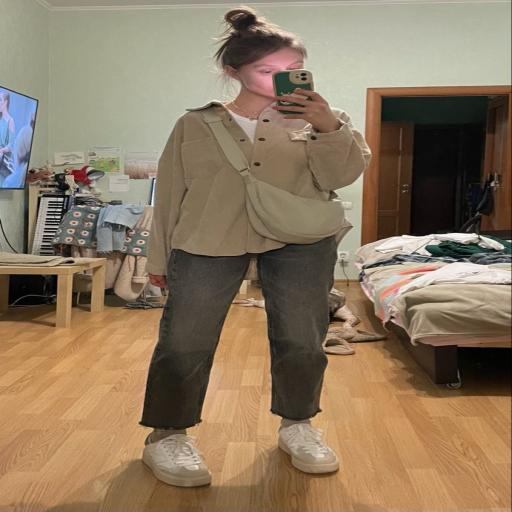crosswalk: (136, 3, 386, 493)
door: (204, 108, 351, 244)
person: (352, 231, 512, 388)
phone: (0, 249, 114, 332)
